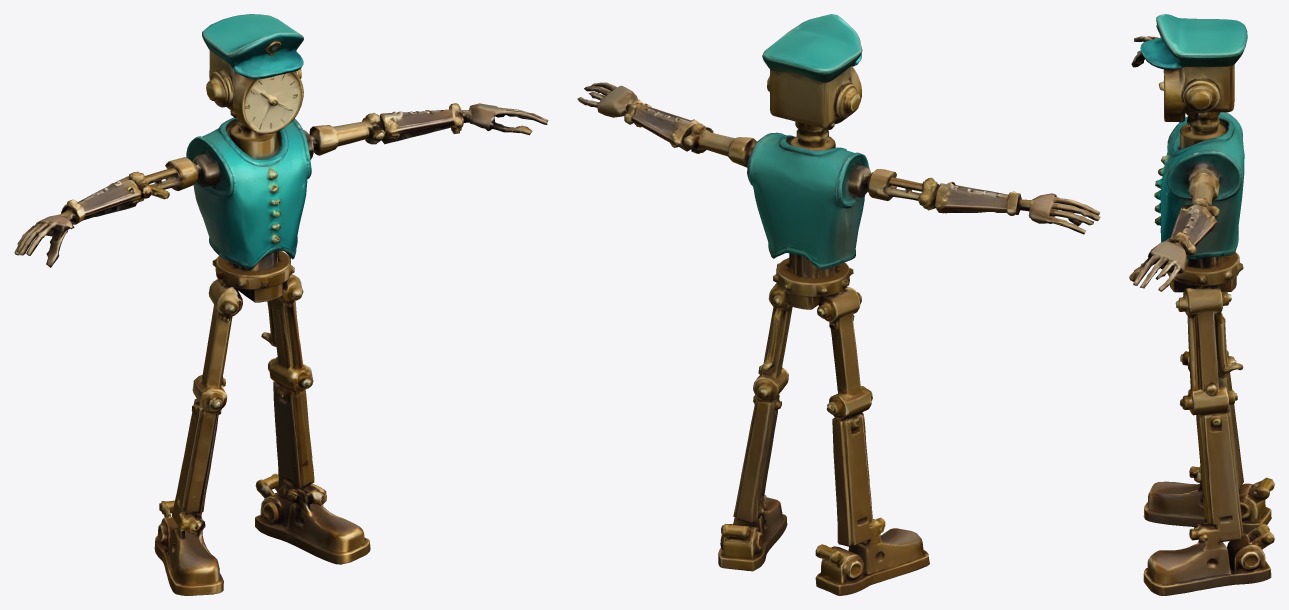
Rendered from porter-base.glb.
3 renders of one model, left to right at view 1: azimuth 30°, elevation 25°; view 2: azimuth 150°, elevation 25°; view 3: azimuth 270°, elevation 25°, orthographic. The views are drawn at different scales.
Visible parts, largest first — view 1: tripo_node_d3b25fe1-c96a-4254-9d52-7beb3a4edc87; view 2: tripo_node_d3b25fe1-c96a-4254-9d52-7beb3a4edc87; view 3: tripo_node_d3b25fe1-c96a-4254-9d52-7beb3a4edc87.
Part boxes in pixels (left/top/right/bottom): tripo_node_d3b25fe1-c96a-4254-9d52-7beb3a4edc87: left=14, top=14, right=548, bottom=595; tripo_node_d3b25fe1-c96a-4254-9d52-7beb3a4edc87: left=577, top=14, right=1100, bottom=595; tripo_node_d3b25fe1-c96a-4254-9d52-7beb3a4edc87: left=1129, top=14, right=1274, bottom=595.
Bounding box in the file's own units: 1 × 0.9771 × 0.2423.
Materials: 1 (1 with a texture image).
